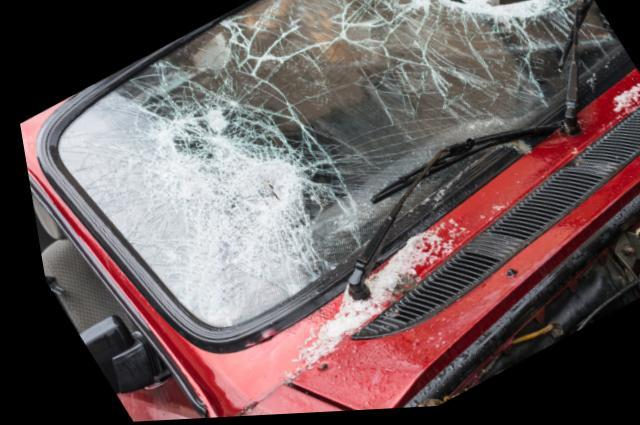glass shatter: (53, 0, 621, 326)
no part: (379, 195, 640, 412)
